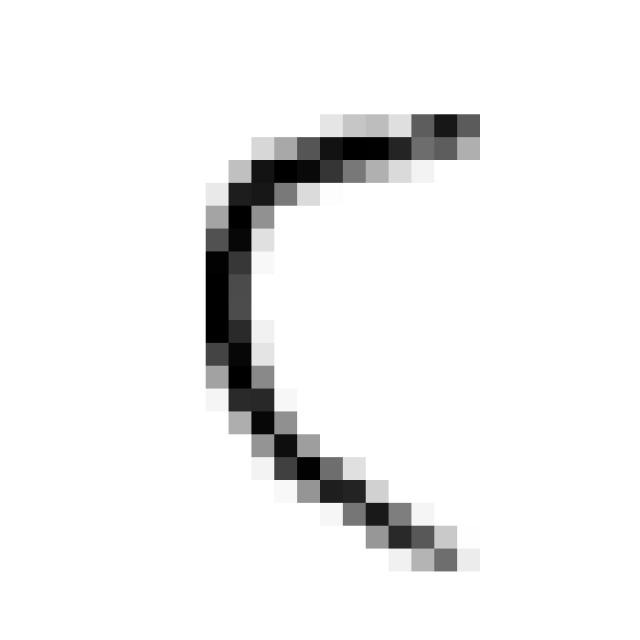2 -two-: (181, 84, 502, 585)
